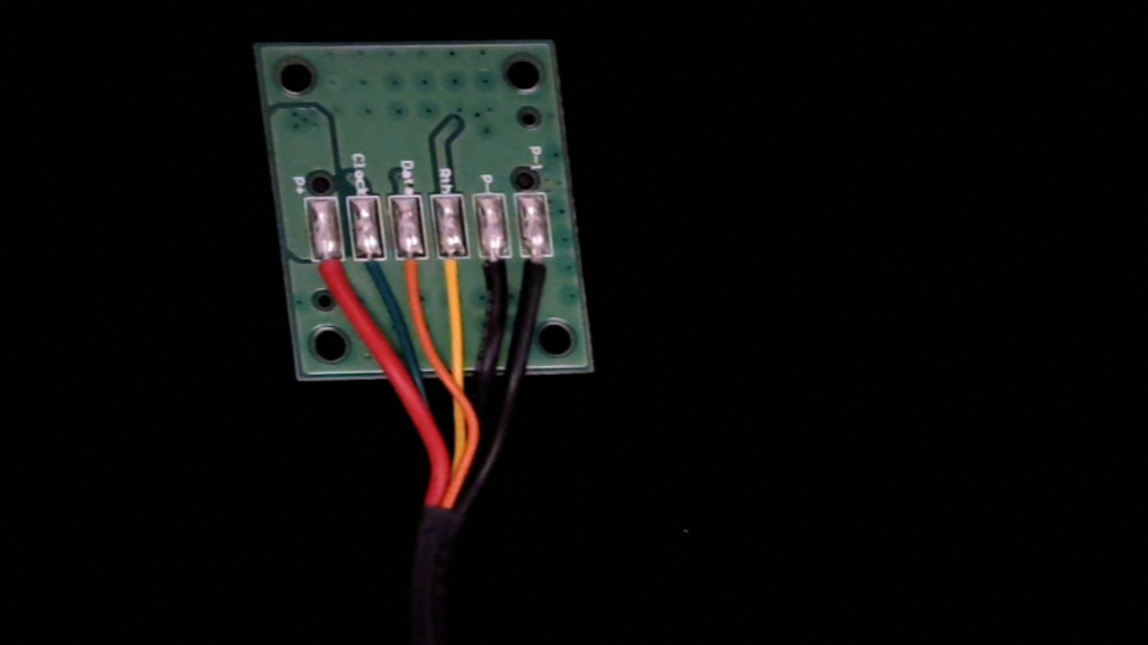Black: (475, 244, 519, 318)
Black1: (520, 243, 561, 310)
Green: (354, 243, 394, 304)
Orange: (393, 243, 435, 315)
Red: (311, 242, 354, 308)
Yellow: (435, 244, 479, 318)
